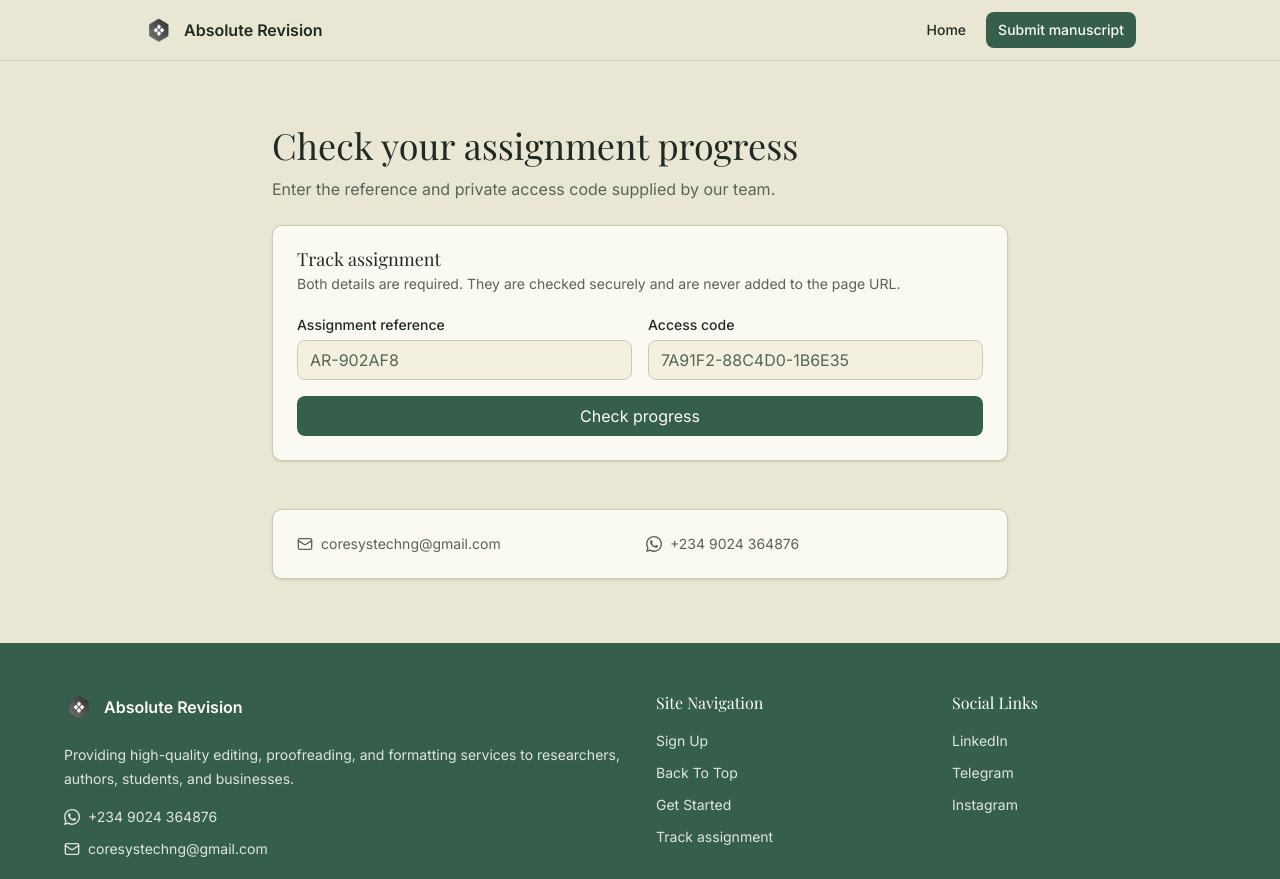
Test case: AssignmentTracking › labels the form and safely rejects malformed tracking details
The width and height of the screenshot is (1280, 879).
Type "invalid" into the field labelled "Assignment reference" at (464, 360), box x1=297 y1=340 x2=632 y2=380
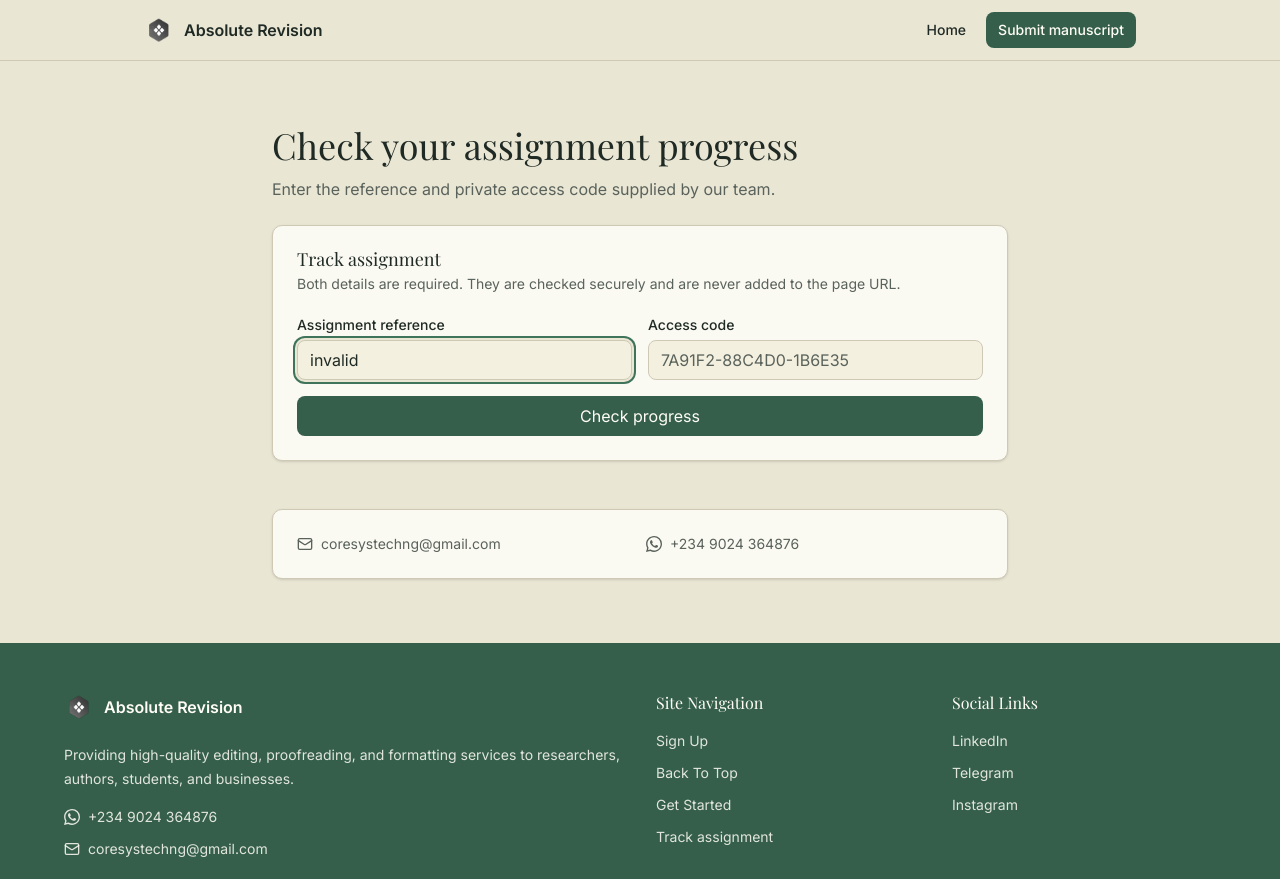
Type "invalid" into the field labelled "Access code" at (816, 360), box x1=648 y1=340 x2=983 y2=380
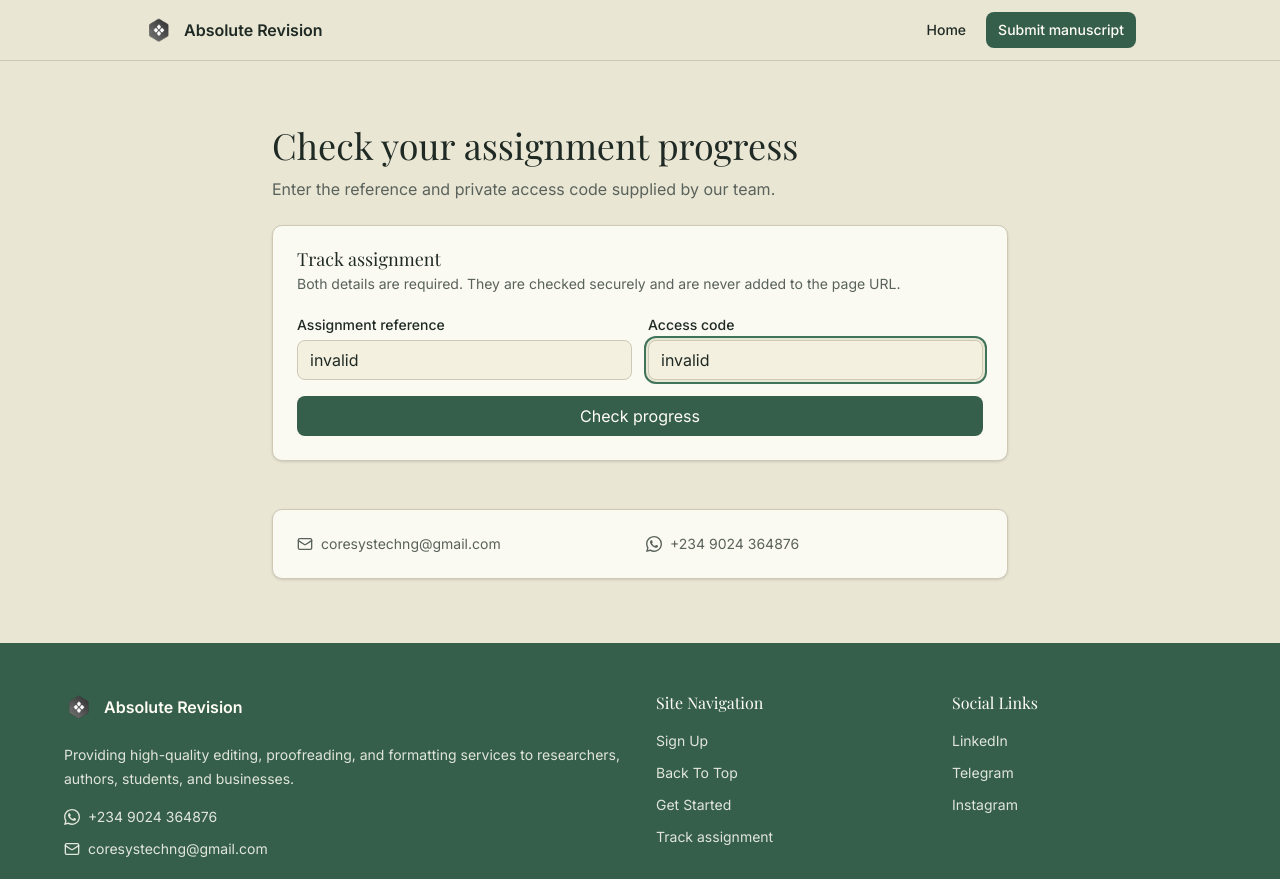
Click the button "Check progress" at (640, 416), box x1=297 y1=396 x2=983 y2=436
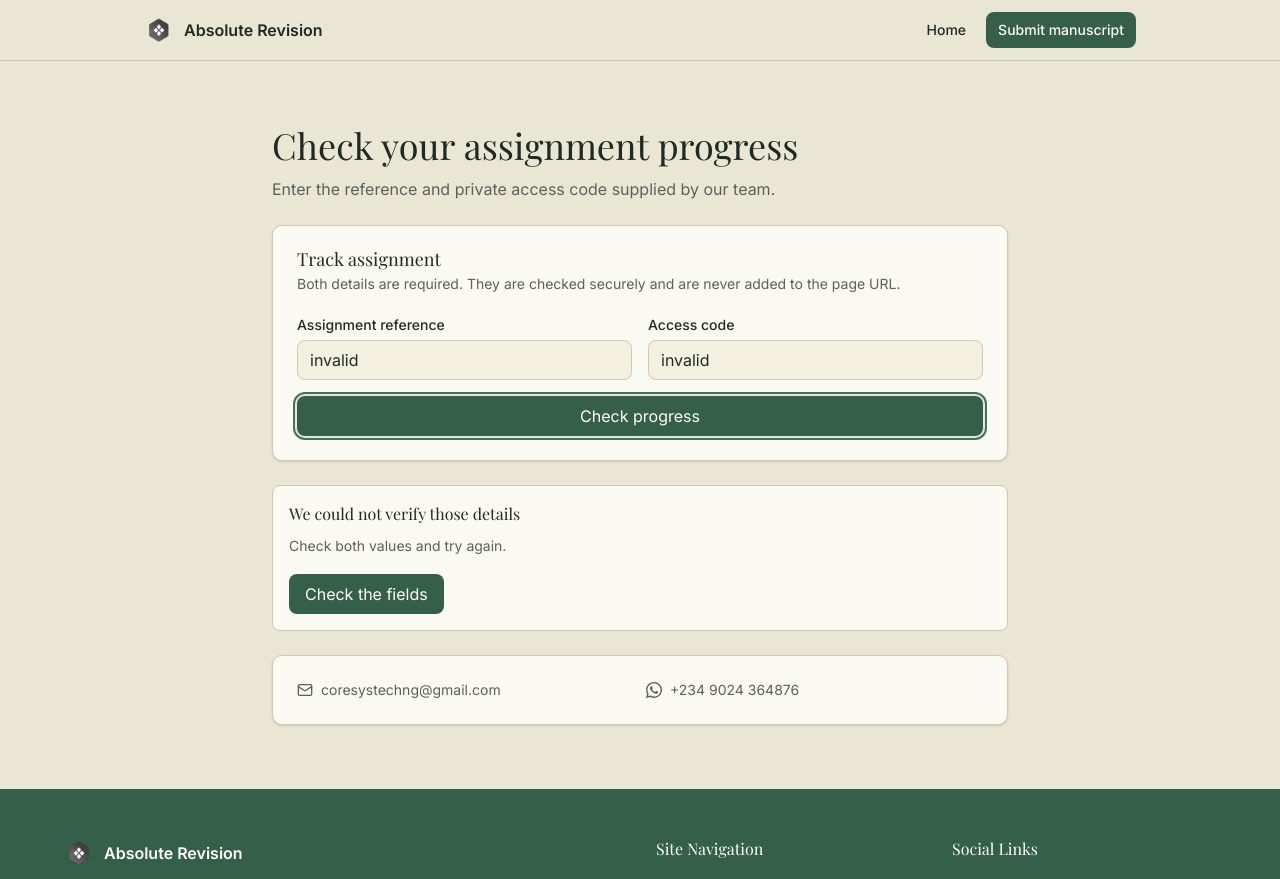
Expected: the heading "We could not verify those details" is shown, x1=289 y1=503 x2=520 y2=524
